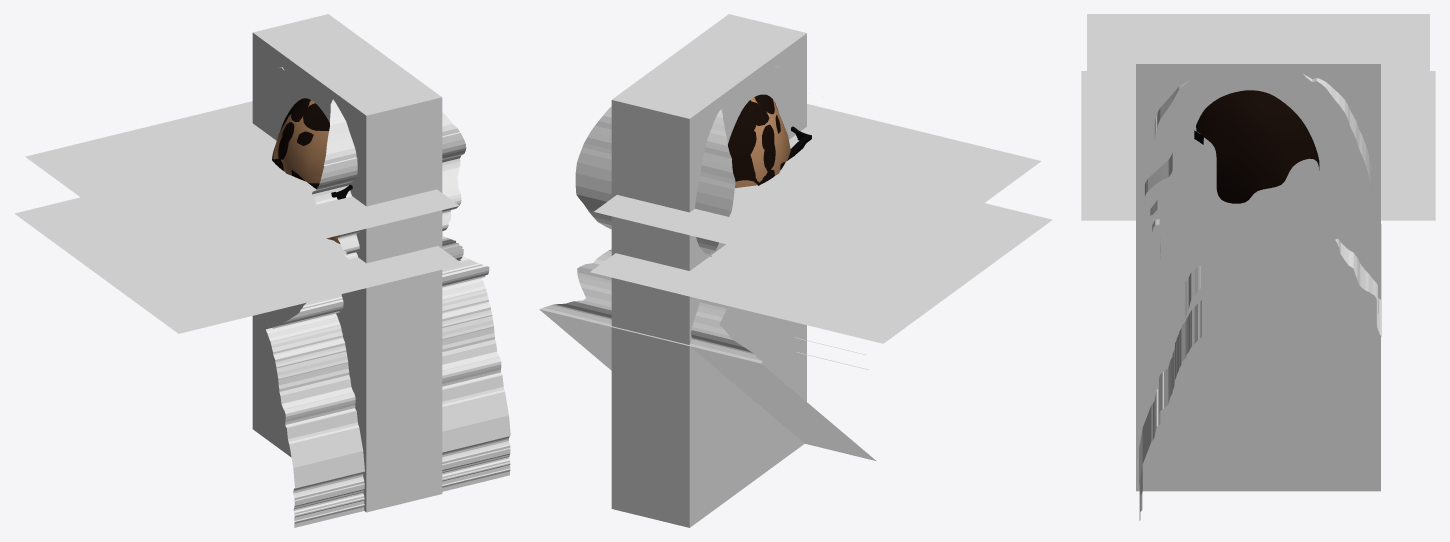
The model's file is eda.glb.
The picture shows the model from 3 angles, left to right: view 1: azimuth 30°, elevation 25°; view 2: azimuth 150°, elevation 25°; view 3: azimuth 270°, elevation 25°; orthographic projection. The views are drawn at different scales.
Visible parts, largest first — view 1: Cube, 平面, 平面.003, 平面.002, 平面.001, hair; view 2: Cube, 平面.003, 平面.002, 平面, hair, 平面.001; view 3: Cube, 平面.003, hair, 平面.002, 平面.
Boxes of the visible parts, x1,y1,x2,y2 form: Cube: [252, 14, 442, 512]; 平面: [266, 67, 510, 527]; 平面.003: [25, 101, 459, 272]; 平面.002: [14, 197, 462, 333]; 平面.001: [273, 100, 340, 243]; hair: [272, 98, 329, 180]; Cube: [611, 14, 806, 527]; 平面.003: [594, 104, 1041, 280]; 平面.002: [590, 203, 1052, 343]; 平面: [539, 66, 875, 460]; hair: [728, 94, 785, 185]; 平面.001: [735, 97, 790, 187]; Cube: [1136, 24, 1380, 491]; 平面.003: [1087, 14, 1429, 158]; hair: [1196, 90, 1319, 203]; 平面.002: [1081, 71, 1435, 220]; 平面: [1139, 74, 1381, 520].
Size of the model in its own units: 9.47 by 10 by 7.51.
